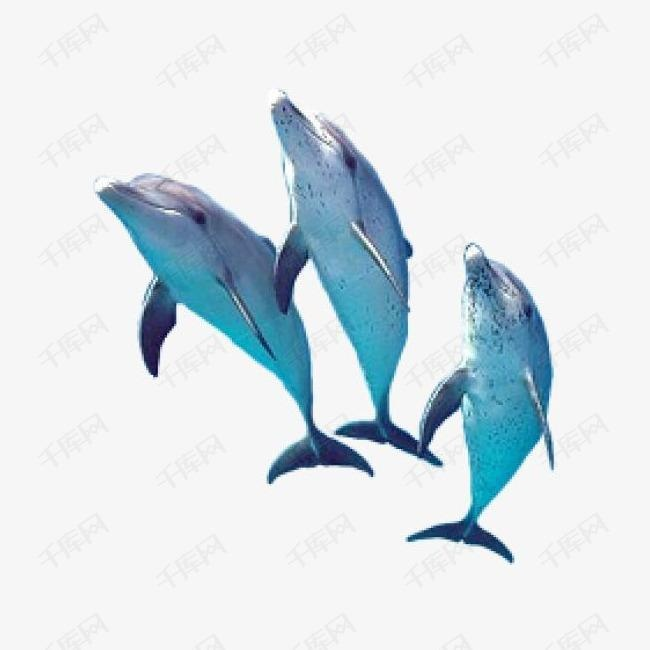fish: (95, 172, 382, 484), (266, 74, 446, 464), (405, 237, 564, 564)
